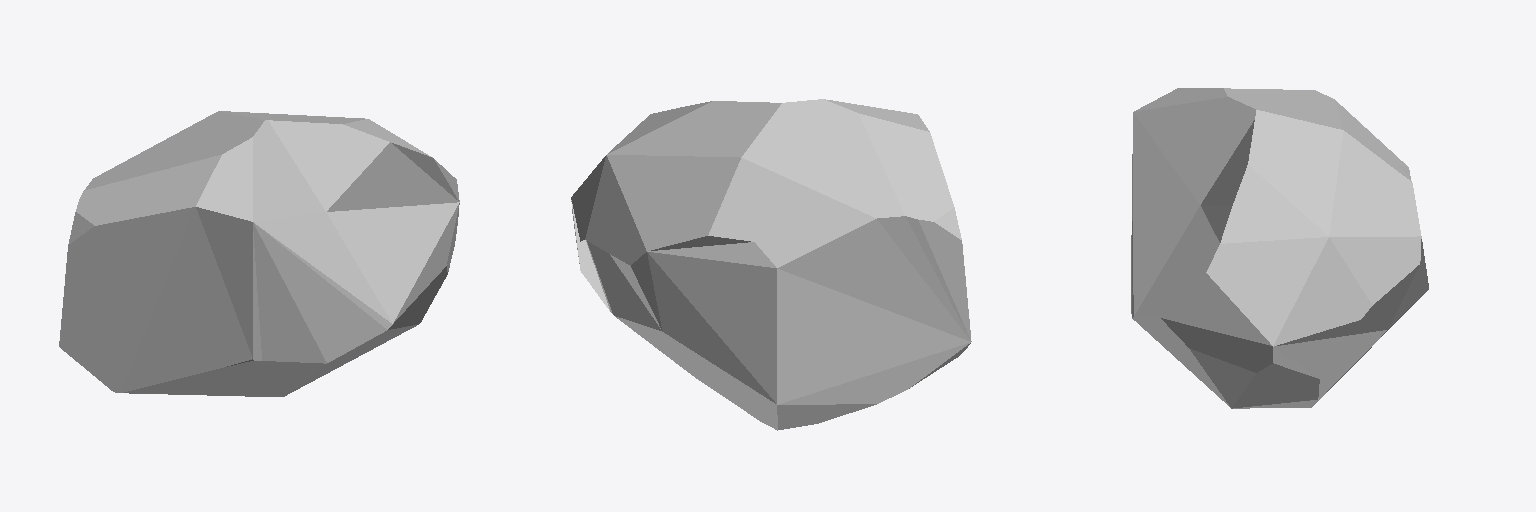
Rendered from asteroid.obj.
3 renders of one model, left to right at view 1: azimuth 30°, elevation 25°; view 2: azimuth 150°, elevation 25°; view 3: azimuth 270°, elevation 25°, orthographic.
Visible parts, largest first — view 1: Landscape_shape_1; view 2: Landscape_shape_1; view 3: Landscape_shape_1.
Part boxes in pixels (x1,y1,x2,y2): Landscape_shape_1: (59, 111, 459, 396); Landscape_shape_1: (571, 99, 971, 430); Landscape_shape_1: (1131, 88, 1428, 408).
Bounding box in the file's own units: 237 × 164 × 153.